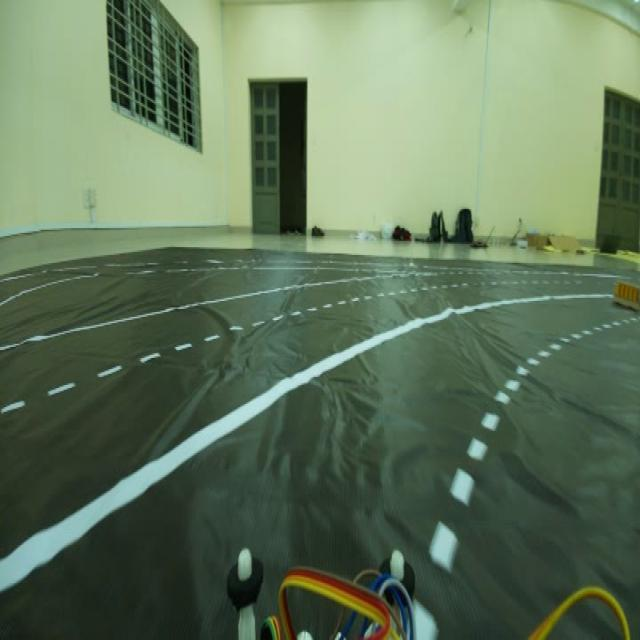roadblock: (611, 276, 638, 318)
